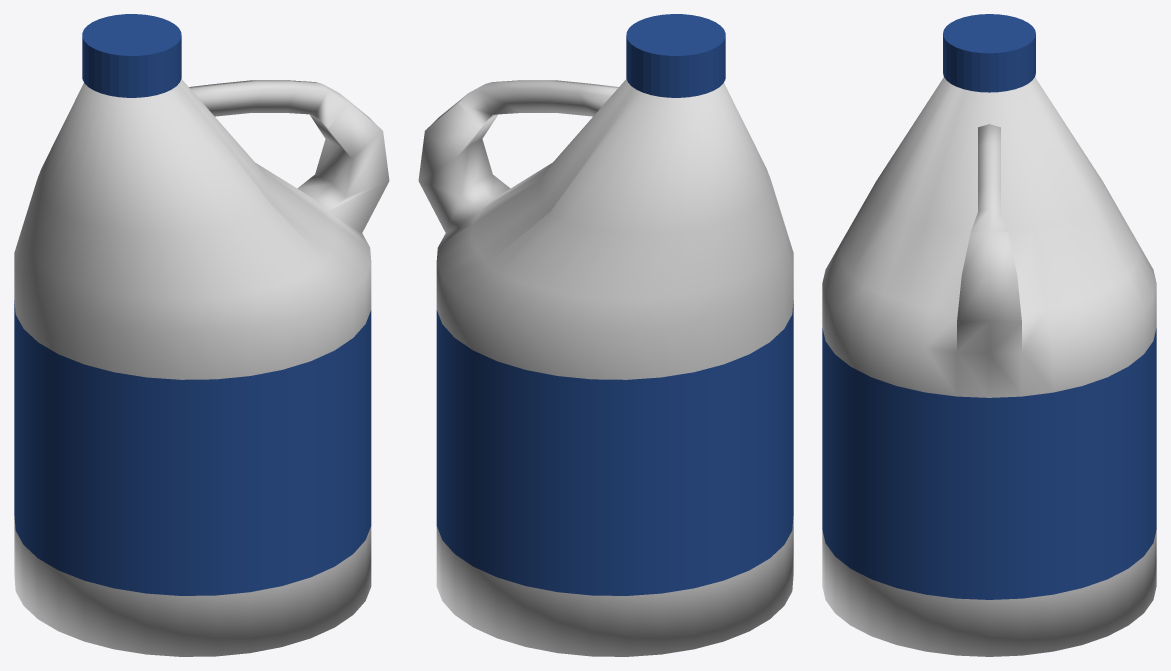
The model's file is bleach.fbx.
3 views of the same model, side by side, from view 1: azimuth 30°, elevation 25°; view 2: azimuth 150°, elevation 25°; view 3: azimuth 270°, elevation 25° (orthographic). The views are drawn at different scales.
Visible parts, largest first — view 1: Cylinder.001; view 2: Cylinder.001; view 3: Cylinder.001.
Part boxes in pixels (x1=…): Cylinder.001: x1=14, y1=14, x2=389, y2=656; Cylinder.001: x1=418, y1=14, x2=793, y2=656; Cylinder.001: x1=822, y1=14, x2=1156, y2=656.
Bounding box in the file's own units: 217 × 346 × 200.
